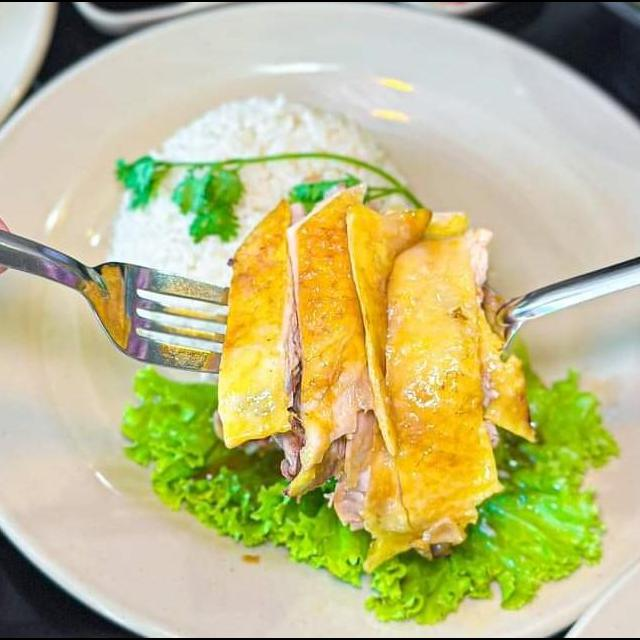com: (100, 79, 418, 387)
com ga: (0, 52, 640, 637)
thit ga: (316, 221, 542, 581), (278, 176, 389, 511), (206, 194, 314, 462), (338, 197, 437, 464)
